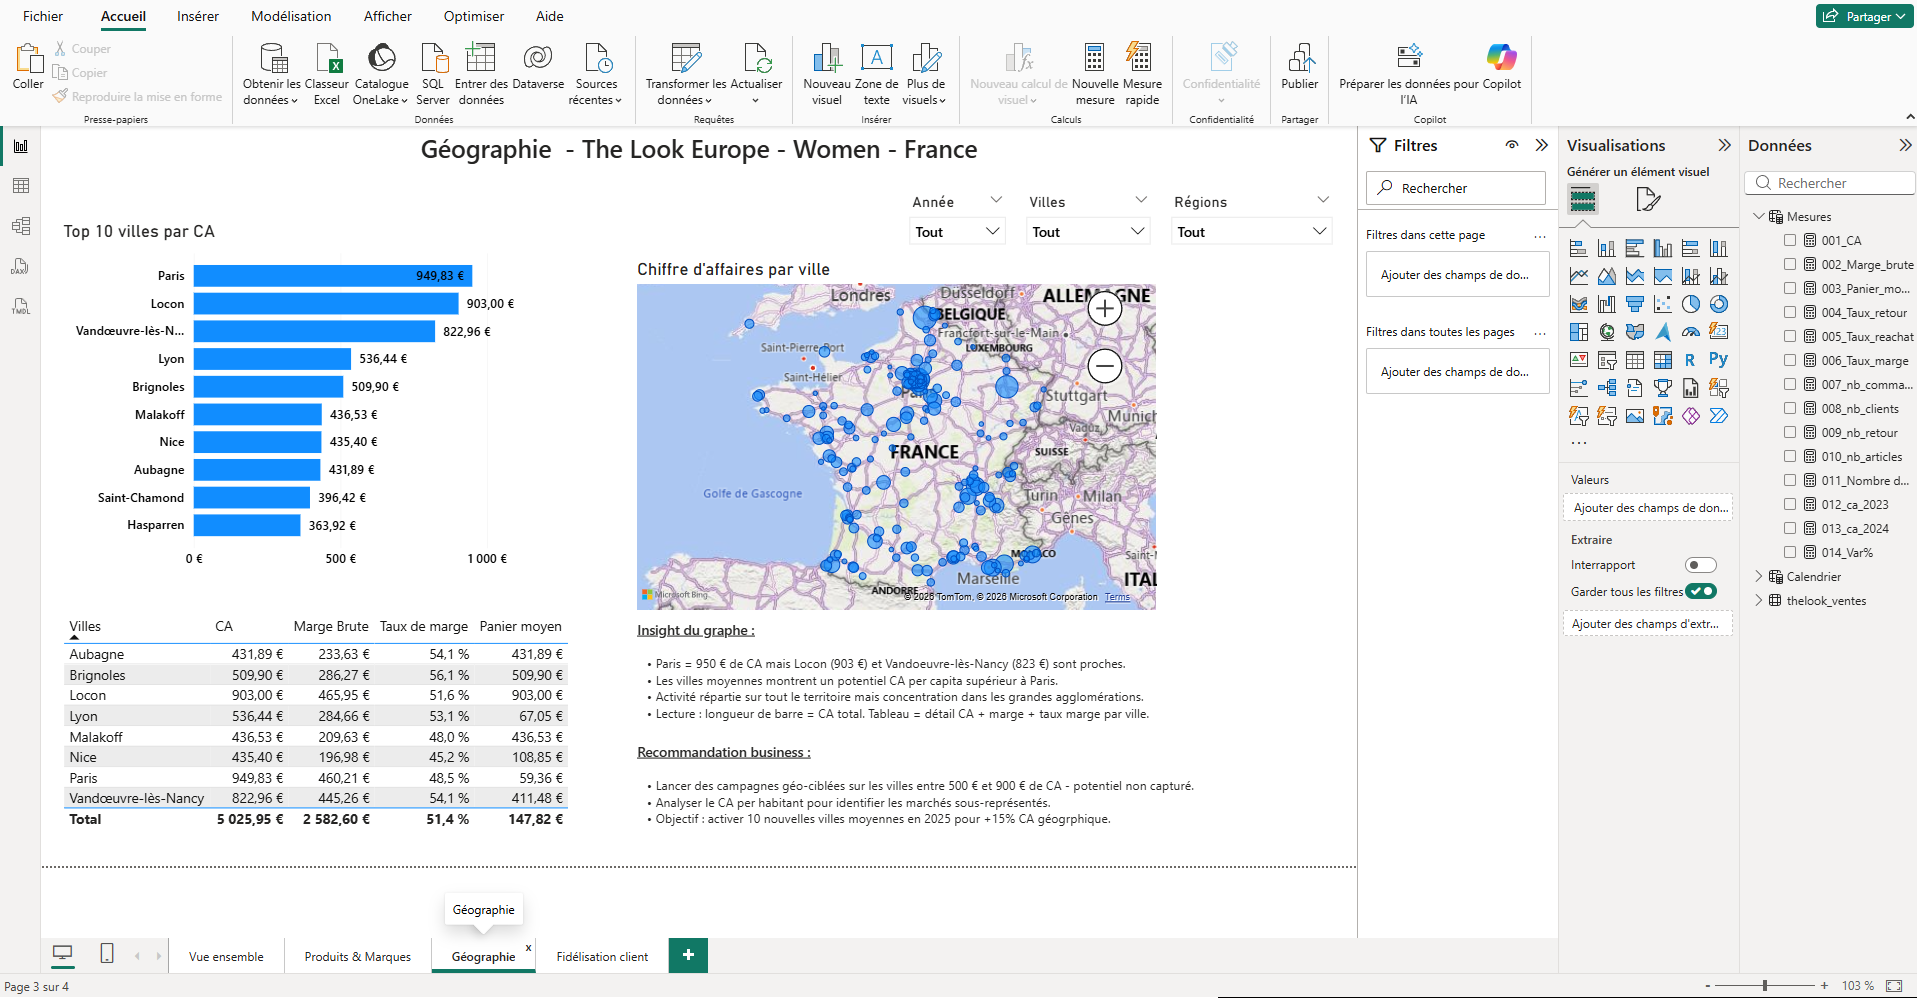

The page's visual inventory and layout, read from the dashboard file:
{"tool":"powerbi","page":{"name":"Géographie","canvas":[1280,720],"ordinal":2},"visuals":[{"type":"textbox","box":[0,0,1280,49.6],"z":0},{"type":"slicer","fields":{"Values":["thelook_ventes.Année"]},"box":[834.5,60.3,113.8,64.2],"z":1000},{"type":"slicer","fields":{"Values":["thelook_ventes.state"]},"box":[1089.4,60.3,177,64.2],"z":2000},{"type":"slicer","fields":{"Values":["thelook_ventes.city"]},"box":[948.3,60.3,141,64.2],"z":3000},{"type":"clusteredBarChart","title":"Top 10 villes par CA","fields":{"Y":["Mesures.001_CA"],"Category":["thelook_ventes.city"]},"box":[17,91.9,476.6,346.7],"z":4000},{"type":"tableEx","fields":{"Values":["thelook_ventes.city","Mesures.001_CA","Mesures.002_Marge_brute","Mesures.006_Taux_marge"]},"box":[17,470.6,422.7,232.8],"z":5000},{"type":"textbox","box":[574.6,475.6,524.6,111.9],"z":6000},{"type":"textbox","box":[574.6,594.5,553.6,95.9],"z":7000},{"type":"map","title":"Chiffre d''affaires par ville","fields":{"Category":["thelook_ventes.city"],"Size":["Mesures.001_CA"]},"box":[574.6,128.9,514.6,345.7],"z":8000}]}

Visuals, with their boxes on the page's 1280x720 design canvas (x1, y1, x2, y2). These are canvas units, not pixel positions in the 1917x998 screenshot, which may show the page scaled, cropped or inside an application window:
textbox: pyautogui.locateOnScreen(0, 0, 1280, 50)
slicer - thelook_ventes.Année: pyautogui.locateOnScreen(834, 60, 948, 124)
slicer - thelook_ventes.state: pyautogui.locateOnScreen(1089, 60, 1266, 124)
slicer - thelook_ventes.city: pyautogui.locateOnScreen(948, 60, 1089, 124)
"Top 10 villes par CA" clusteredBarChart: pyautogui.locateOnScreen(17, 92, 494, 439)
tableEx - thelook_ventes.city x Mesures.001_CA: pyautogui.locateOnScreen(17, 471, 440, 703)
textbox: pyautogui.locateOnScreen(575, 476, 1099, 588)
textbox: pyautogui.locateOnScreen(575, 594, 1128, 690)
"Chiffre d''affaires par ville" map: pyautogui.locateOnScreen(575, 129, 1089, 475)
